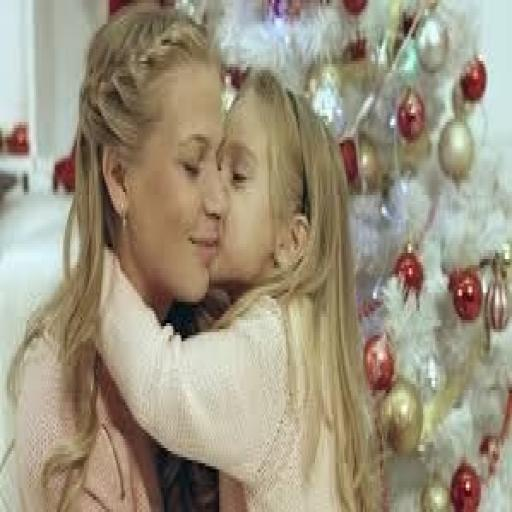hugging: (7, 6, 385, 509)
